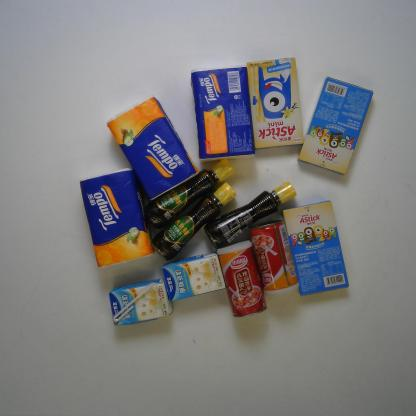Canned Food: (246, 219, 303, 294), (216, 240, 267, 319)
Dessert: (297, 75, 374, 176), (282, 198, 349, 297), (245, 58, 305, 148)
Milk: (108, 280, 172, 328), (162, 253, 226, 300)
Seasoner: (144, 156, 235, 232), (152, 182, 234, 264), (206, 181, 296, 249)
Tissue: (106, 96, 199, 202), (78, 166, 158, 268), (192, 66, 254, 161)
